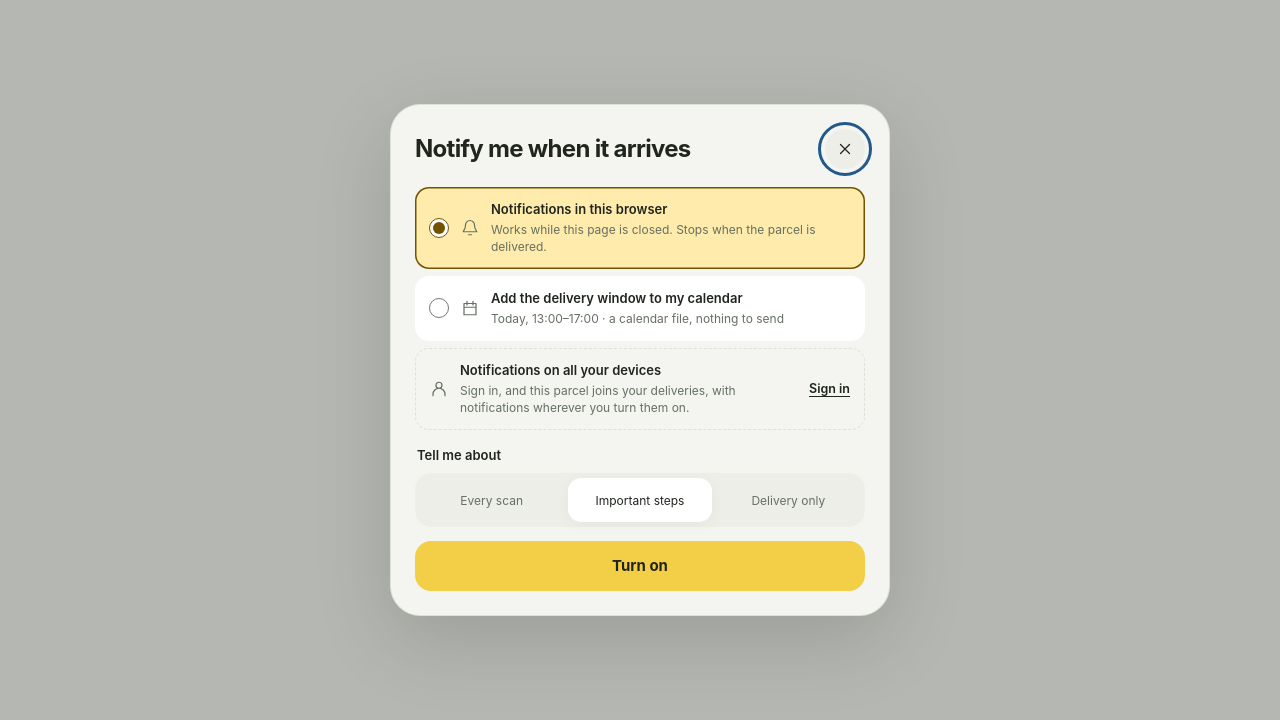
the Notify me sheet › says why the server refused: {"kind":"unconfigured","name":"ParcelLinkError","retryAfterSeconds":null,"guidance":null}
Click the button "Turn on" at (640, 566), box x1=415 y1=542 x2=865 y2=592
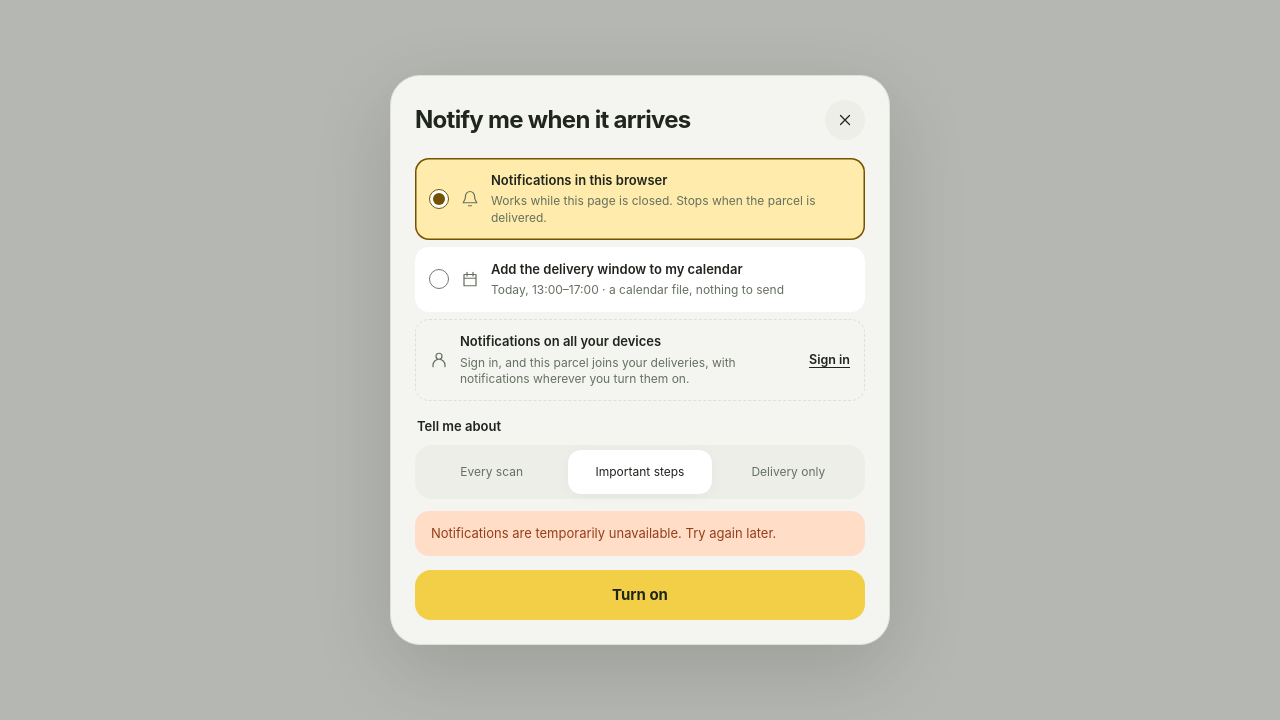
Expected: the button "Turn on" is enabled, x1=415 y1=570 x2=865 y2=620
Result: the message reads "Notifications are temporarily unavailable. Try again later." at x1=431 y1=525 x2=776 y2=541
